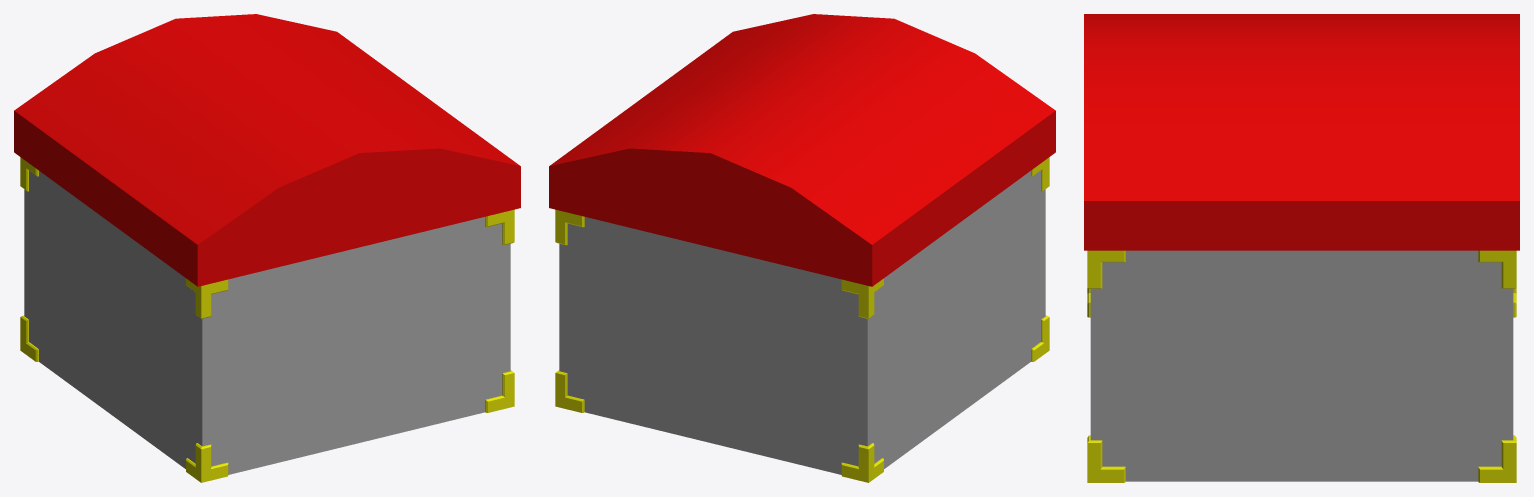
3 renders of one model, left to right at view 1: azimuth 30°, elevation 25°; view 2: azimuth 150°, elevation 25°; view 3: azimuth 270°, elevation 25°, orthographic. The views are drawn at different scales.
Visible parts, largest first — view 1: Botton_Box1, Top_Box1, pCube42; view 2: Botton_Box1, Top_Box1, pCube42; view 3: Top_Box1, Botton_Box1, pCube42.
Part boxes in pixels (x1,y1,x2,y2): Botton_Box1: [24, 170, 510, 474]; Top_Box1: [14, 14, 520, 286]; pCube42: [20, 157, 514, 482]; Botton_Box1: [559, 170, 1045, 474]; Top_Box1: [549, 14, 1055, 286]; pCube42: [555, 157, 1049, 482]; Top_Box1: [1084, 14, 1519, 250]; Botton_Box1: [1090, 250, 1513, 481]; pCube42: [1087, 250, 1516, 482].
Bounding box in the file's own units: 39.95 × 34.58 × 39.34.
